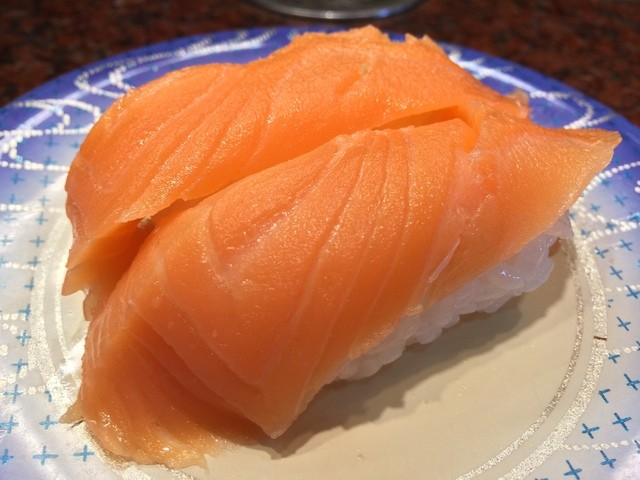salmon: (101, 124, 580, 437), (65, 33, 483, 224)
